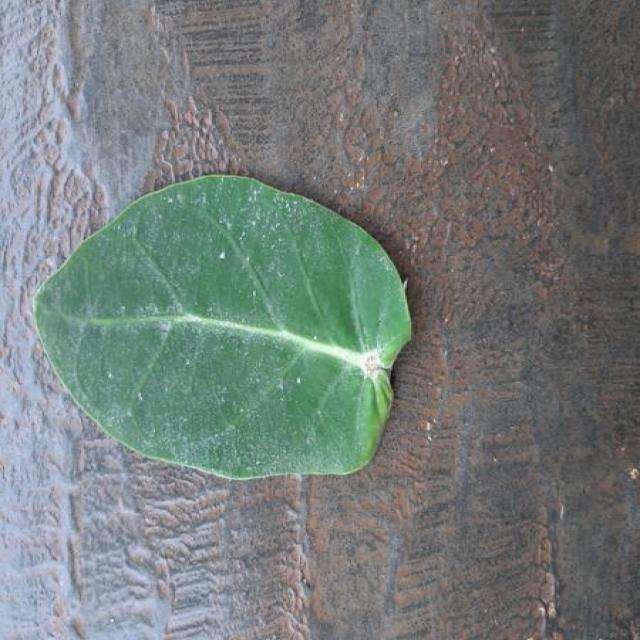ekka: (35, 175, 412, 478)
